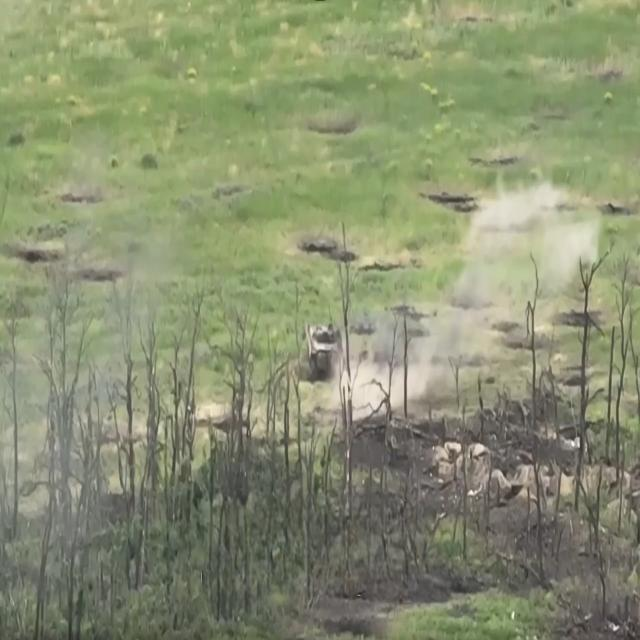AIFV: (304, 320, 346, 380)
